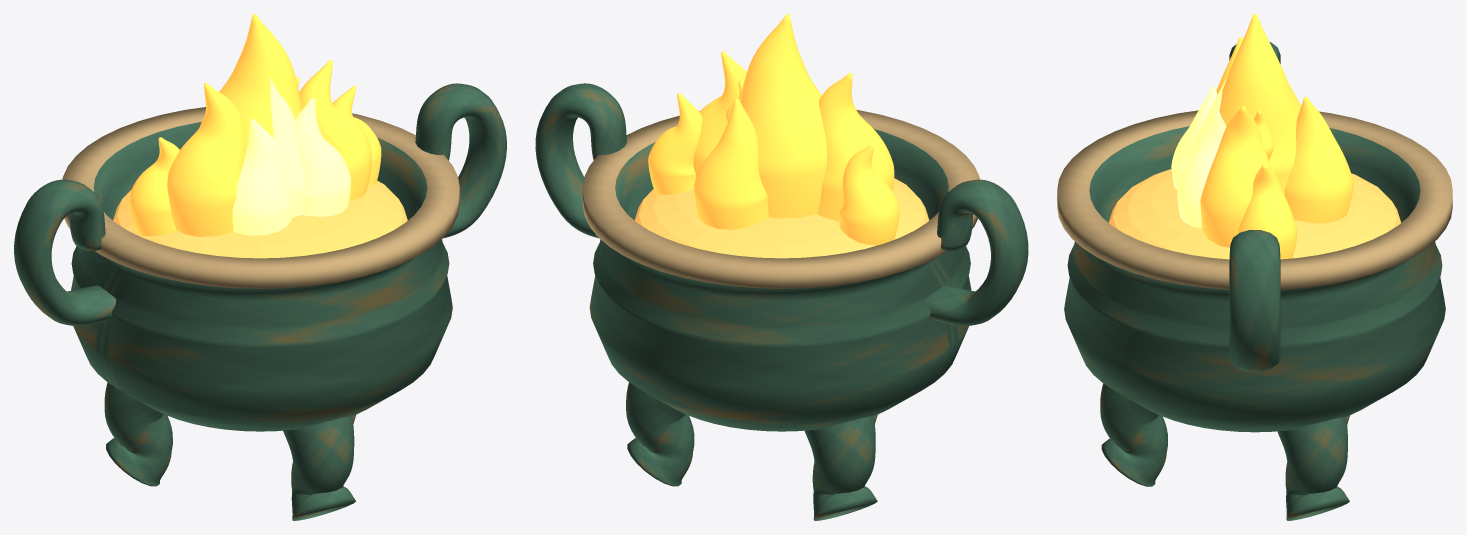
File: Prop_02_三足青铜炼丹炉.glb
The picture shows the model from 3 angles, left to right: view 1: azimuth 30°, elevation 25°; view 2: azimuth 150°, elevation 25°; view 3: azimuth 270°, elevation 25°; orthographic projection.
Visible parts, largest first — view 1: CauldronBody, Handle_-1, Sphere, Flame_1, Handle_1, Leg_0, Flame_0, Leg_2, Flame_6, Flame_7, Flame_2, Flame_3 (+2 smaller); view 2: CauldronBody, Flame_0, Sphere, Handle_-1, Handle_1, Flame_5, Leg_2, Flame_1, Leg_1, Flame_3, Flame_4, Flame_2; view 3: CauldronBody, Sphere, Handle_1, Flame_0, Flame_5, Leg_1, Flame_2, Leg_0, Flame_4, Flame_7, Flame_6, Flame_9.
Boxes of the visible parts, x1,y1,x2,y2 form: CauldronBody: (62,107,459,431); Handle_-1: (14,179,116,325); Sphere: (113,180,407,258); Flame_1: (167,83,245,236); Handle_1: (415,83,506,238); Leg_0: (283,416,355,520); Flame_0: (200,14,301,152); Leg_2: (104,382,172,486); Flame_6: (232,119,292,235); Flame_7: (295,98,350,216); Flame_2: (299,60,371,200); Flame_3: (129,137,179,236); CauldronBody: (582,109,979,431); Flame_0: (740,14,826,218); Sphere: (634,178,929,258); Handle_-1: (926,179,1028,325); Handle_1: (535,83,626,238); Flame_5: (693,98,768,229); Leg_2: (804,416,877,520); Flame_1: (817,72,894,221); Leg_1: (626,382,694,486); Flame_3: (839,144,899,245); Flame_4: (648,93,702,194); Flame_2: (693,51,746,176); CauldronBody: (1057,110,1452,432); Sphere: (1109,169,1400,259); Handle_1: (1229,230,1280,371); Flame_0: (1219,14,1301,194); Flame_5: (1284,96,1353,223); Leg_1: (1277,416,1349,520); Flame_2: (1200,106,1271,247); Leg_0: (1100,383,1167,486); Flame_4: (1237,163,1297,259); Flame_7: (1177,112,1226,228); Flame_6: (1171,86,1217,190); Flame_9: (1254,110,1274,159).
Bounding box in the file's own units: 2.4 × 2.23 × 1.72.
5 materials, 1 textured.
